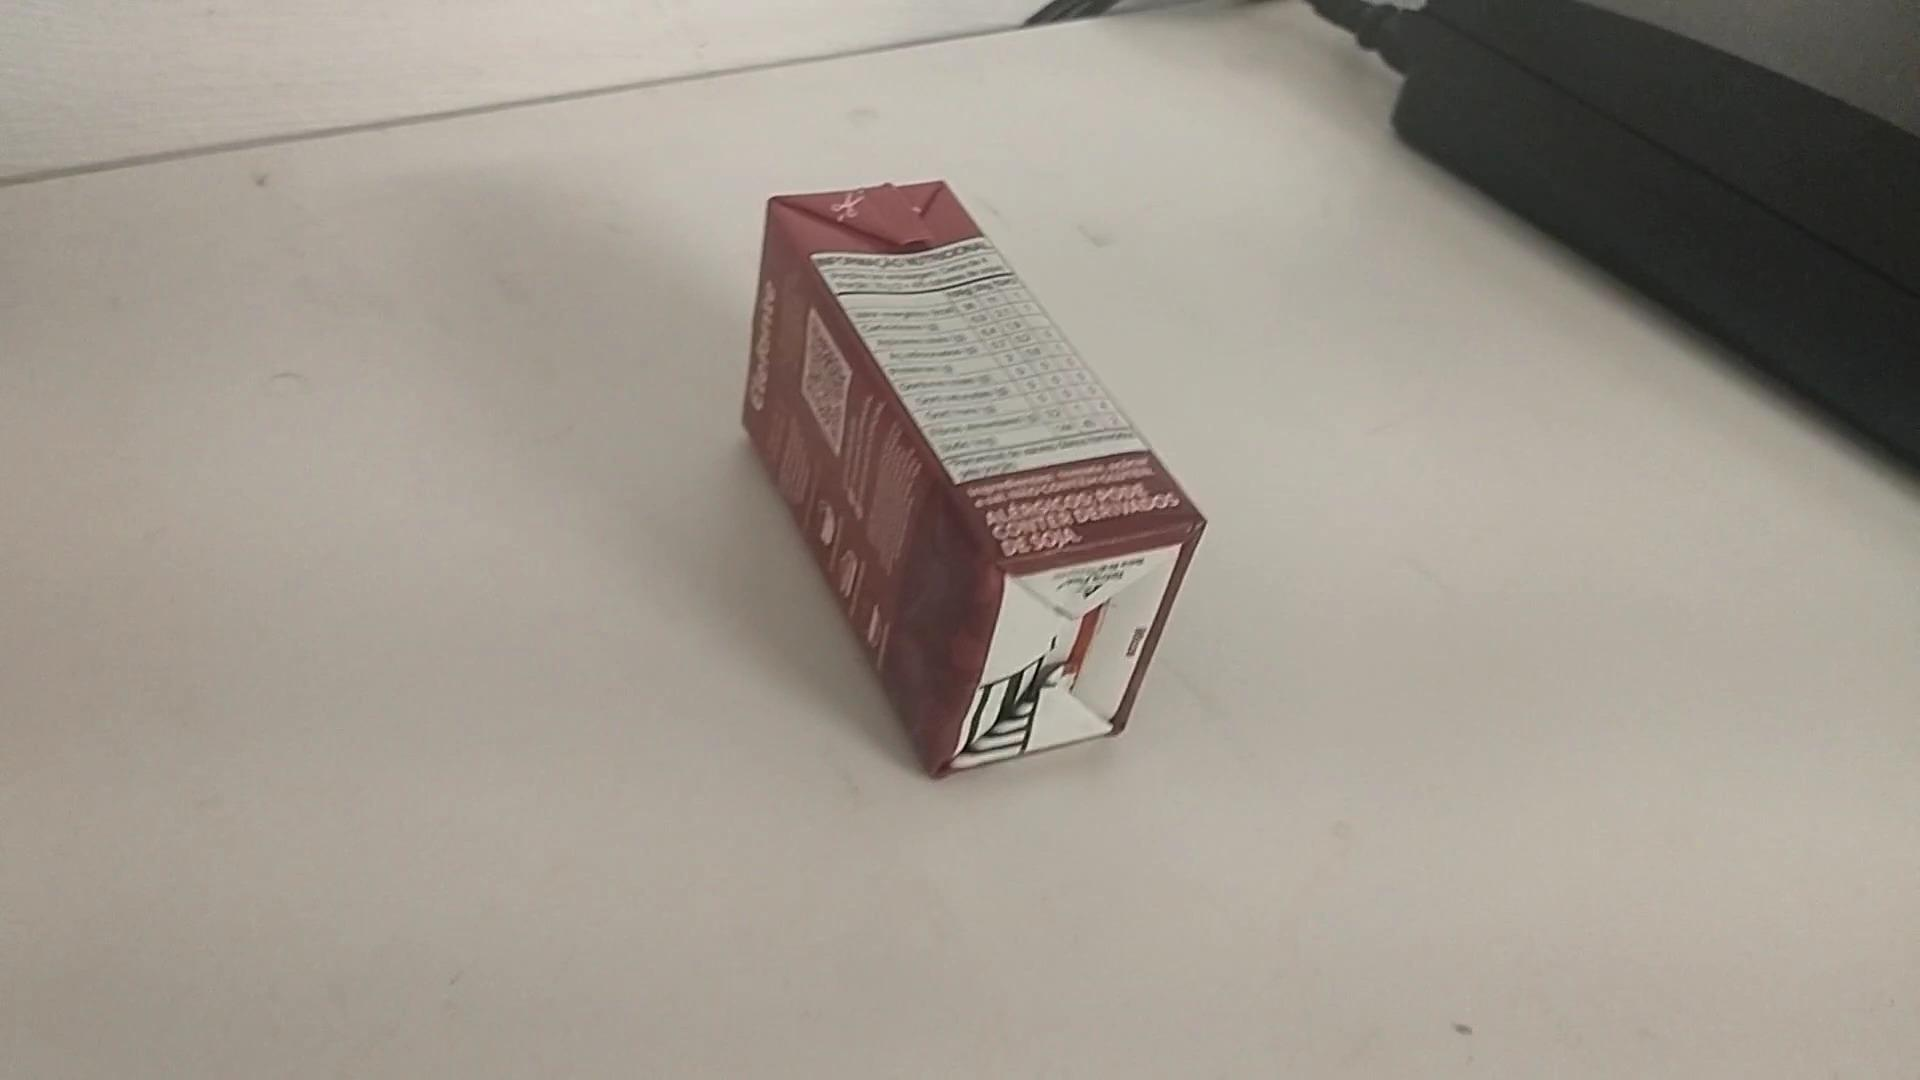tomate: (736, 160, 1222, 781)
